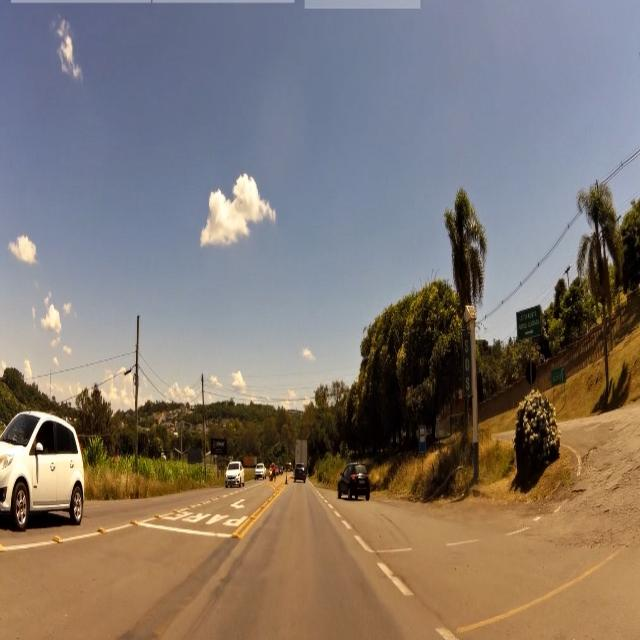S-14: (420, 427, 426, 456)
